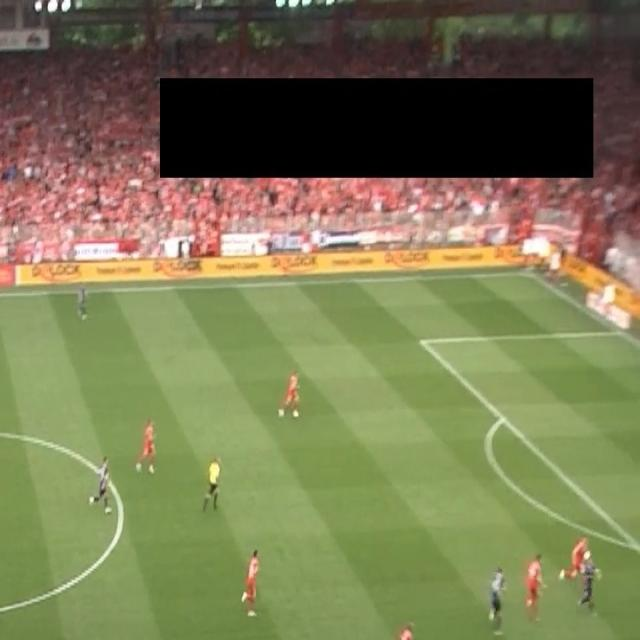ball: (582, 550, 591, 562)
